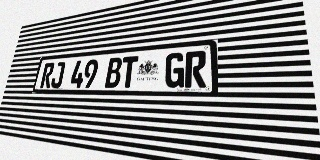4: (70, 60, 86, 88)
9: (82, 59, 99, 88)
B: (105, 57, 123, 88)
G: (164, 52, 185, 88)
J: (50, 62, 66, 88)
R: (185, 50, 206, 88), (40, 62, 55, 88)
T: (120, 56, 139, 88)
